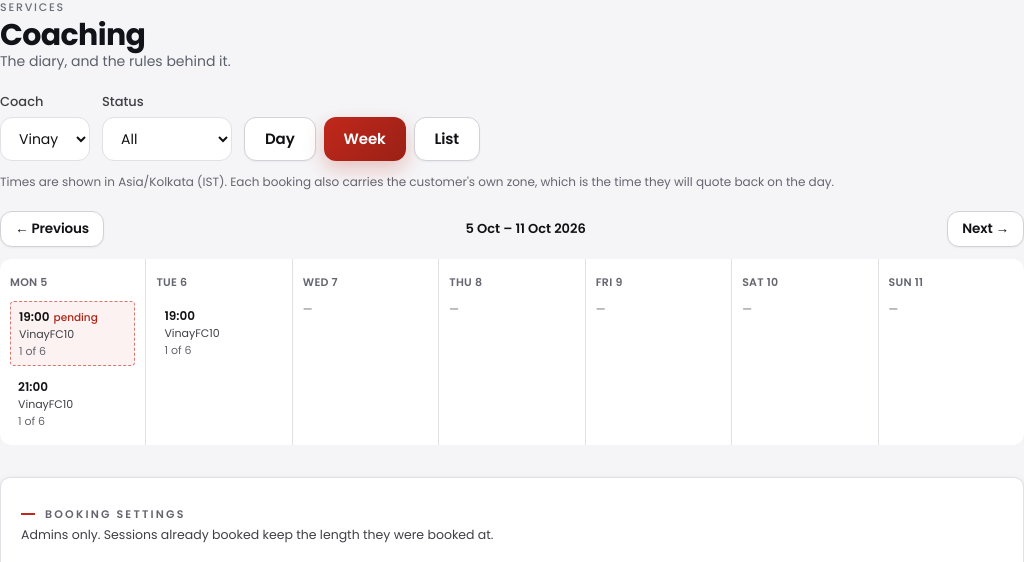
Scenario: Coaching diary › shows who did what and when
Click the button "List". click: x=447, y=139
box: [414,117,480,161]
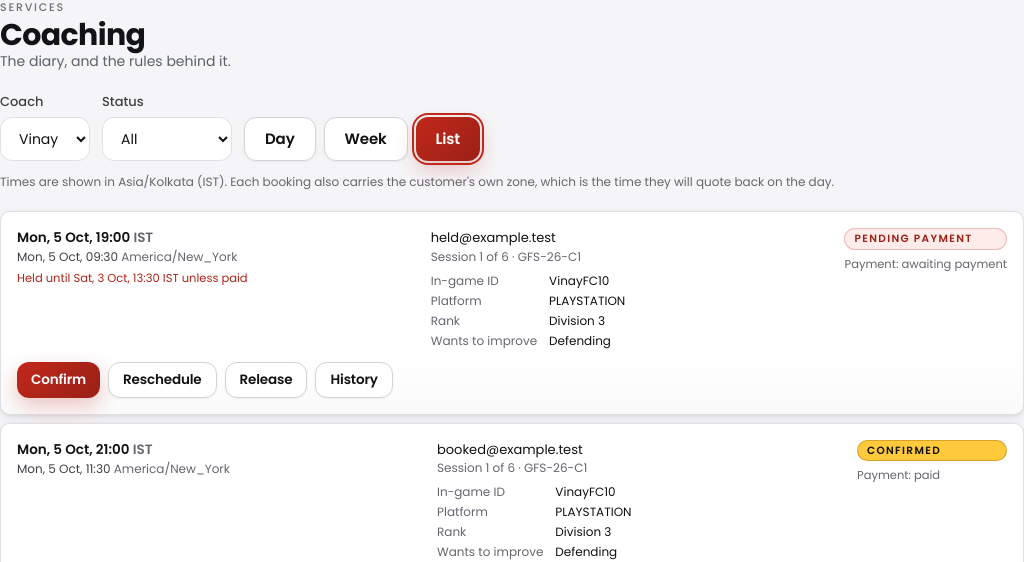
Click the button "History" below "Held until". click: x=354, y=380
box: [316,362,393,398]
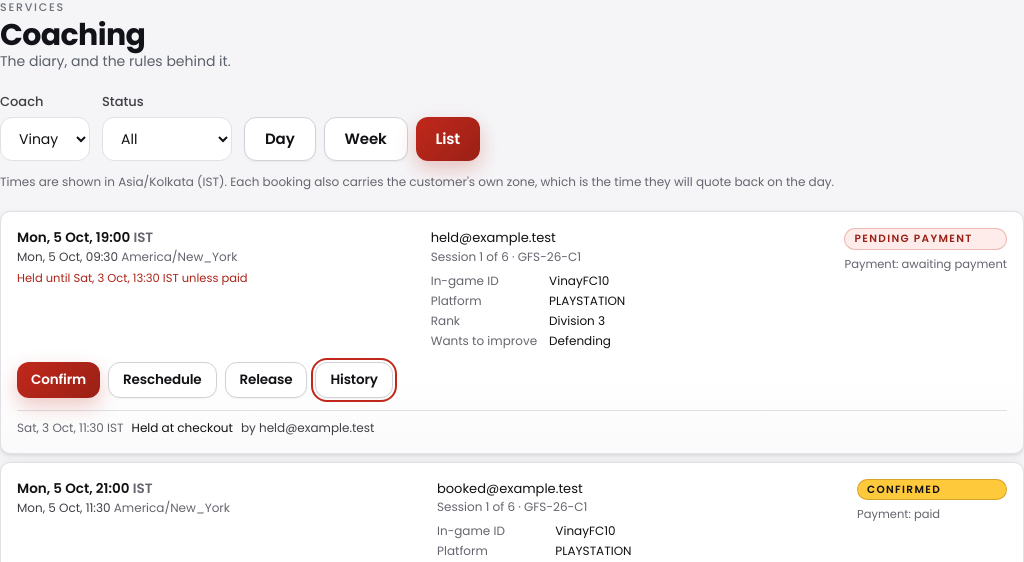
Now the text "Held at checkout" is shown, box [132,419,233,437]
Now the text "by held@example.test" is shown, box [241,419,374,437]
